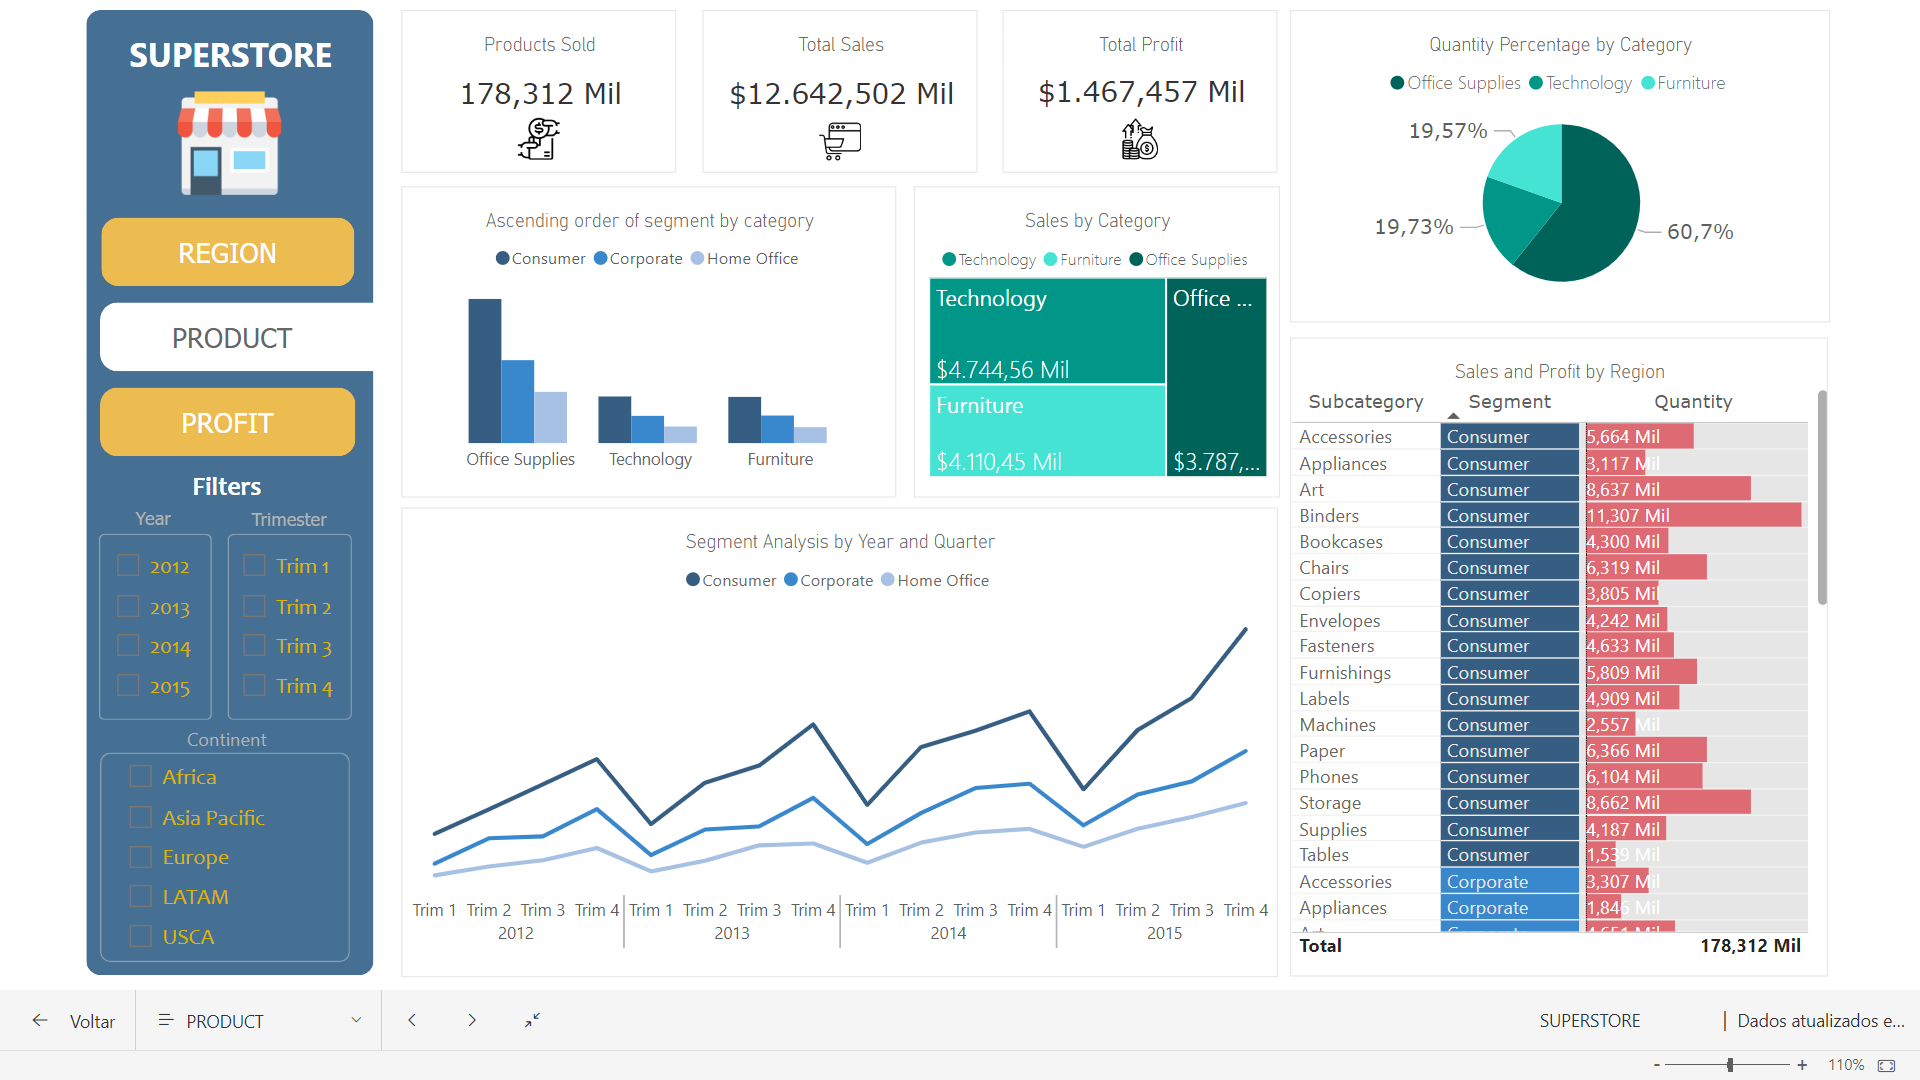

Layout of this report page (visuals, bound fields, positions):
{"tool":"powerbi","page":{"name":"PRODUCT","canvas":[1280,720],"ordinal":1},"visuals":[{"type":"pieChart","title":"Quantity Percentage by Category","fields":{"Category":["Orders.category"],"Y":["Sum(Orders.quantity)"]},"box":[880,7.5,392.5,227.5],"z":0},{"type":"clusteredColumnChart","title":"Ascending order of segment by category","fields":{"Y":["Sum(Orders.quantity)"],"Category":["Orders.category"],"Series":["Orders.segment"]},"box":[234,135,360,226],"z":1000},{"type":"shape","box":[15.7,157.9,184.3,50],"z":1000,"group":"g1"},{"type":"treemap","title":"Sales by Category","fields":{"Group":["Orders.category"],"Values":["Sum(Orders.sales)"]},"box":[606,135,266,226],"z":2000},{"type":"shape","box":[14.3,220,217.6,50],"z":2000,"group":"g3"},{"type":"shape","box":[14.4,282.1,185.9,50],"z":3000,"group":"g2"},{"type":"lineChart","title":"Segment Analysis by Year and Quarter","fields":{"Category":["Orders.orderDate.Variation.Hierarquia de datas.Ano","Orders.orderDate.Variation.Hierarquia de datas.Trimestre"],"Y":["Sum(Orders.quantity)"],"Series":["Orders.segment"]},"box":[234,368.7,637.3,341.3],"z":3000},{"type":"shape","box":[4.5,7.5,209,702],"z":4000},{"type":"shape","box":[13.9,387.8,82.2,135.6],"z":5000},{"type":"slicer","fields":{"Values":["Orders.orderDate.Variation.Hierarquia de datas.Ano"]},"box":[13.9,392.2,86.7,131.1],"z":6000},{"type":"textbox","box":[4.3,363,93.3,29.4],"z":7000},{"type":"textbox","box":[103.9,363.3,92.8,29.4],"z":8000},{"type":"textbox","box":[12.1,523.3,186.2,28.3],"z":9000},{"type":"shape","box":[107.2,387.8,90.6,135.6],"z":10000},{"type":"shape","box":[14.4,546.9,181.9,152.5],"z":11000},{"type":"slicer","fields":{"Values":["Orders.orderDate.Variation.Hierarquia de datas.Trimestre"]},"box":[105,392.2,100,131.1],"z":12000},{"type":"slicer","fields":{"Values":["Orders.market"]},"box":[22.5,545,178.1,154.4],"z":13000},{"type":"card","title":"Products Sold","fields":{"Values":["Sum(Orders.quantity)"]},"box":[233.8,7.5,200,118.8],"z":14000},{"type":"card","title":"Total Sales","fields":{"Values":["Sum(Orders.sales)"]},"box":[452.5,7.5,200,118.8],"z":15000},{"type":"card","title":"Total Profit ","fields":{"Values":["Sum(Orders.profit)"]},"box":[671.2,7.5,200,118.8],"z":16000},{"type":"tableEx","title":"Sales and Profit by Region","fields":{"Values":["Orders.subCategory","Orders.segment","Sum(Orders.quantity)"]},"box":[880,245,391.2,465],"z":17000},{"type":"textbox","box":[12.5,337.5,185,36.2],"z":18000},{"type":"image","box":[751.2,81.2,40,40],"z":19000},{"type":"image","box":[532.4,82.4,40,40],"z":20000},{"type":"image","box":[313.5,81.2,40,40],"z":21000},{"type":"group","id":"g1","title":"Grupo 1","box":[15.7,157.9,184.3,50],"z":22000},{"type":"group","id":"g2","title":"Grupo 3","box":[14.4,282.1,185.6,50],"z":23000},{"type":"group","id":"g3","title":"Grupo 2","box":[14.3,220,217.9,50],"z":24000},{"type":"textbox","box":[4.4,17.8,210,47.8],"z":25000},{"type":"image","box":[66.5,60.5,85,85.5],"z":26000}]}

Visuals, with their boxes on the page's 1280x720 design canvas (x1, y1, x2, y2). These are canvas units, not pixel positions in the 1920x1080 screenshot, which may show the page scaled, cropped or inside an application window:
"Quantity Percentage by Category" pieChart: locate(880, 8, 1272, 235)
"Ascending order of segment by category" clusteredColumnChart: locate(234, 135, 594, 361)
shape: locate(16, 158, 200, 208)
"Sales by Category" treemap: locate(606, 135, 872, 361)
shape: locate(14, 220, 232, 270)
shape: locate(14, 282, 200, 332)
"Segment Analysis by Year and Quarter" lineChart: locate(234, 369, 871, 710)
shape: locate(4, 8, 214, 710)
shape: locate(14, 388, 96, 523)
slicer - Orders.orderDate.Variation.Hierarquia de datas.Ano: locate(14, 392, 101, 523)
textbox: locate(4, 363, 98, 392)
textbox: locate(104, 363, 197, 393)
textbox: locate(12, 523, 198, 552)
shape: locate(107, 388, 198, 523)
shape: locate(14, 547, 196, 699)
slicer - Orders.orderDate.Variation.Hierarquia de datas.Trimestre: locate(105, 392, 205, 523)
slicer - Orders.market: locate(22, 545, 201, 699)
"Products Sold" card: locate(234, 8, 434, 126)
"Total Sales" card: locate(452, 8, 652, 126)
"Total Profit " card: locate(671, 8, 871, 126)
"Sales and Profit by Region" tableEx: locate(880, 245, 1271, 710)
textbox: locate(12, 338, 198, 374)
image: locate(751, 81, 791, 121)
image: locate(532, 82, 572, 122)
image: locate(314, 81, 354, 121)
"Grupo 1" group: locate(16, 158, 200, 208)
"Grupo 3" group: locate(14, 282, 200, 332)
"Grupo 2" group: locate(14, 220, 232, 270)
textbox: locate(4, 18, 214, 66)
image: locate(66, 60, 152, 146)
